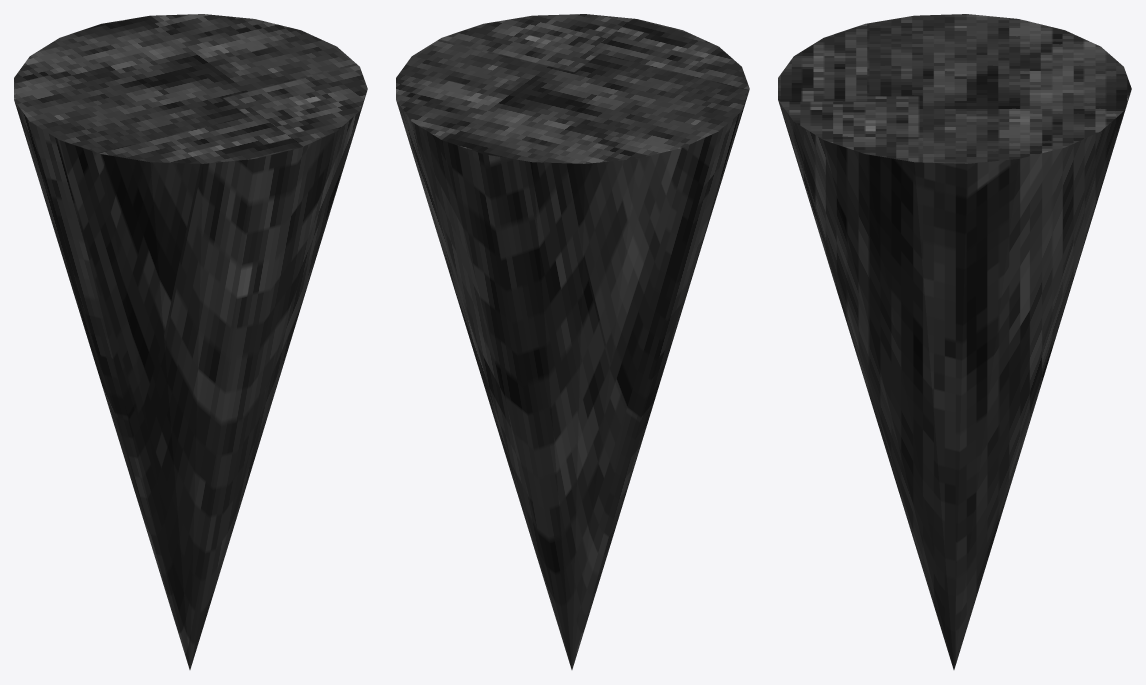
Rendered from estalactite.fbx.
3 renders of one model, left to right at view 1: azimuth 30°, elevation 25°; view 2: azimuth 150°, elevation 25°; view 3: azimuth 270°, elevation 25°, orthographic.
Visible parts, largest first — view 1: Cone; view 2: Cone; view 3: Cone.
Part boxes in pixels (x1=…): Cone: x1=14, y1=14, x2=367, y2=669; Cone: x1=396, y1=14, x2=749, y2=669; Cone: x1=778, y1=14, x2=1131, y2=669.
Bounding box in the file's own units: 97.58 × 177 × 97.31.
1 material, 1 textured.
